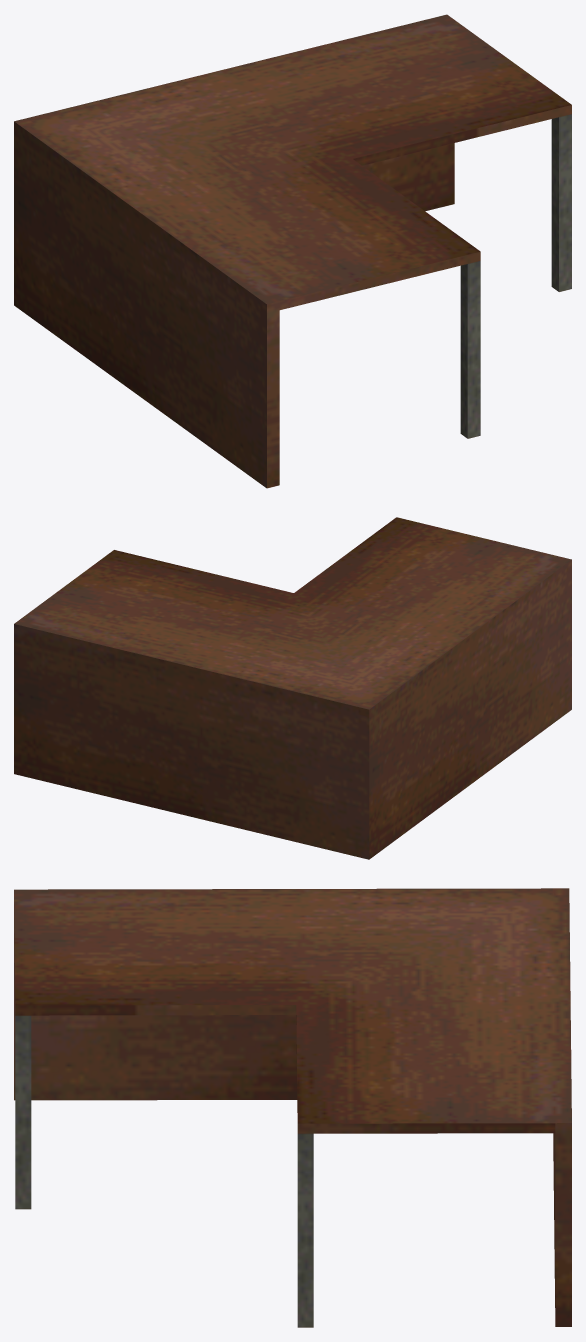
The model's file is desk2_corner.obj.
3 renders of one model, top to bottom at view 1: azimuth 30°, elevation 25°; view 2: azimuth 150°, elevation 25°; view 3: azimuth 270°, elevation 25°, orthographic. The views are drawn at different scales.
Parts seen in each view (by area): view 1: desk2_corner; view 2: desk2_corner; view 3: desk2_corner.
Boxes of the visible parts, box(x1,y1,x2,y2) form: desk2_corner: box(14, 14, 571, 488); desk2_corner: box(14, 517, 571, 859); desk2_corner: box(14, 888, 571, 1327).
Size of the model in its own units: 2.21 by 0.8911 by 2.21.
